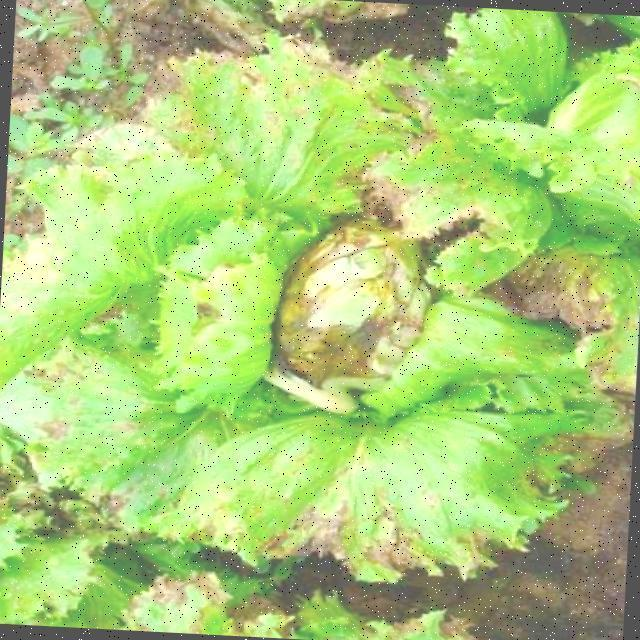Bacterial: (33, 136, 616, 501)
